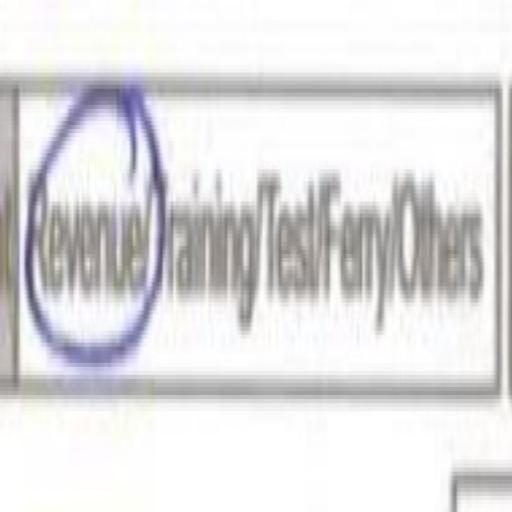check: (24, 22, 159, 490)
